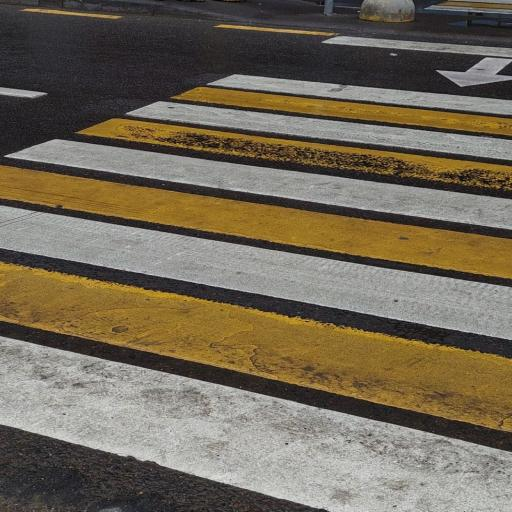closet: (0, 76, 511, 511)
ramp: (0, 7, 511, 511)
